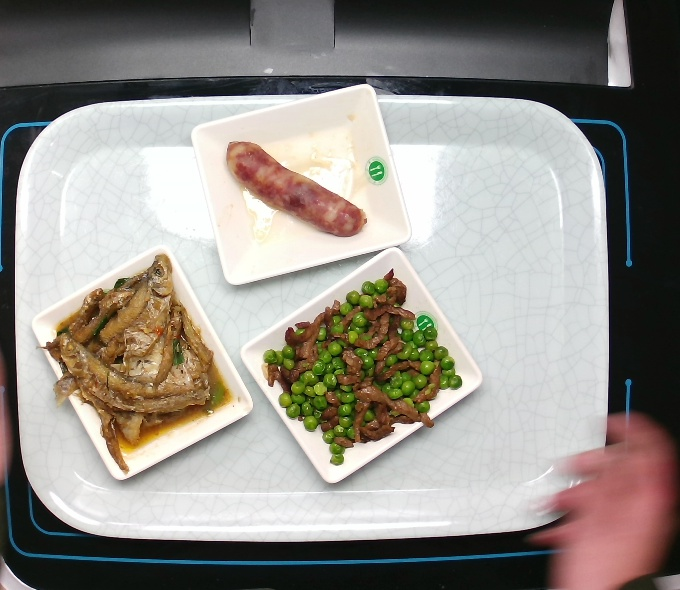wcq-CanDouNiuRou: (257, 265, 467, 469)
wcq-XiangChang: (219, 137, 373, 242)
wcq-XiaoJiYu: (31, 250, 234, 479)
